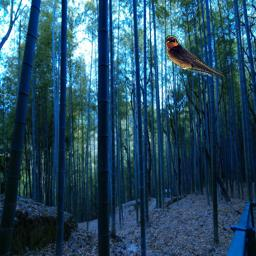Swallow: (165, 35, 224, 77)
